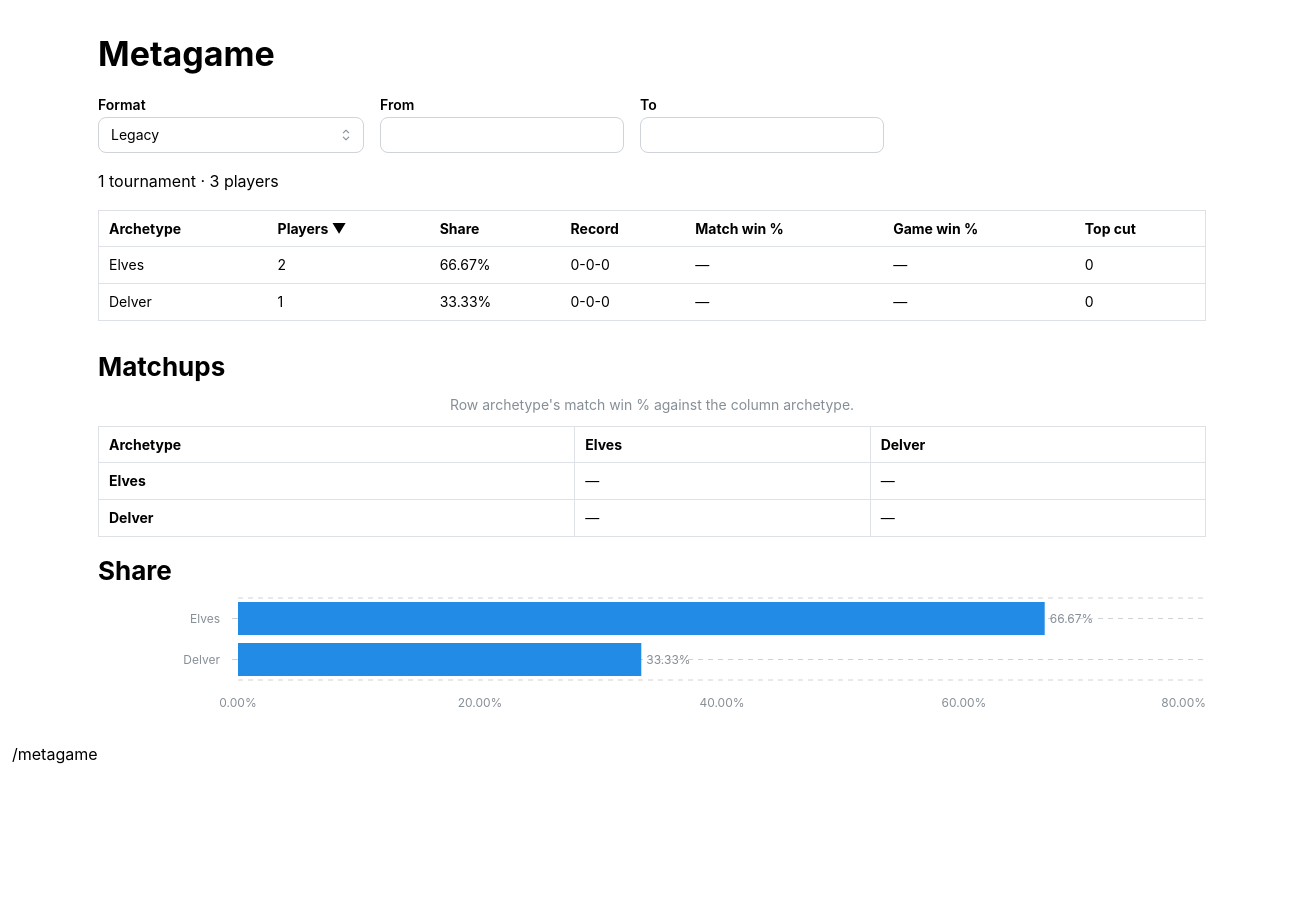
it: MetagamePage › writes a changed format into the query
Click the dropdown labelled "Format": coordinates (231, 135) x1=98 y1=117 x2=364 y2=153
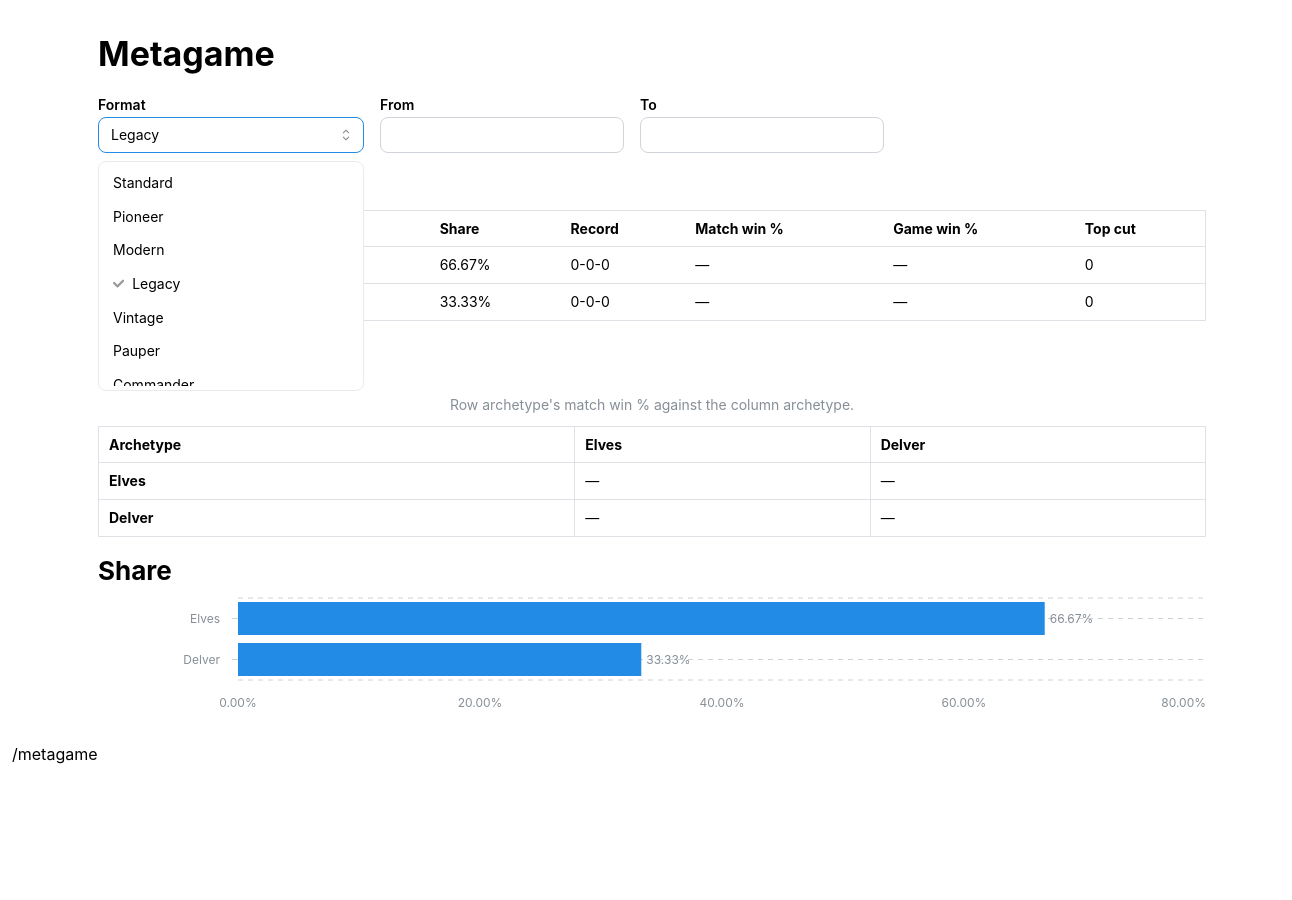
Click the option "Modern": coordinates (139, 250) x1=113 y1=241 x2=164 y2=258
(page scrolled)
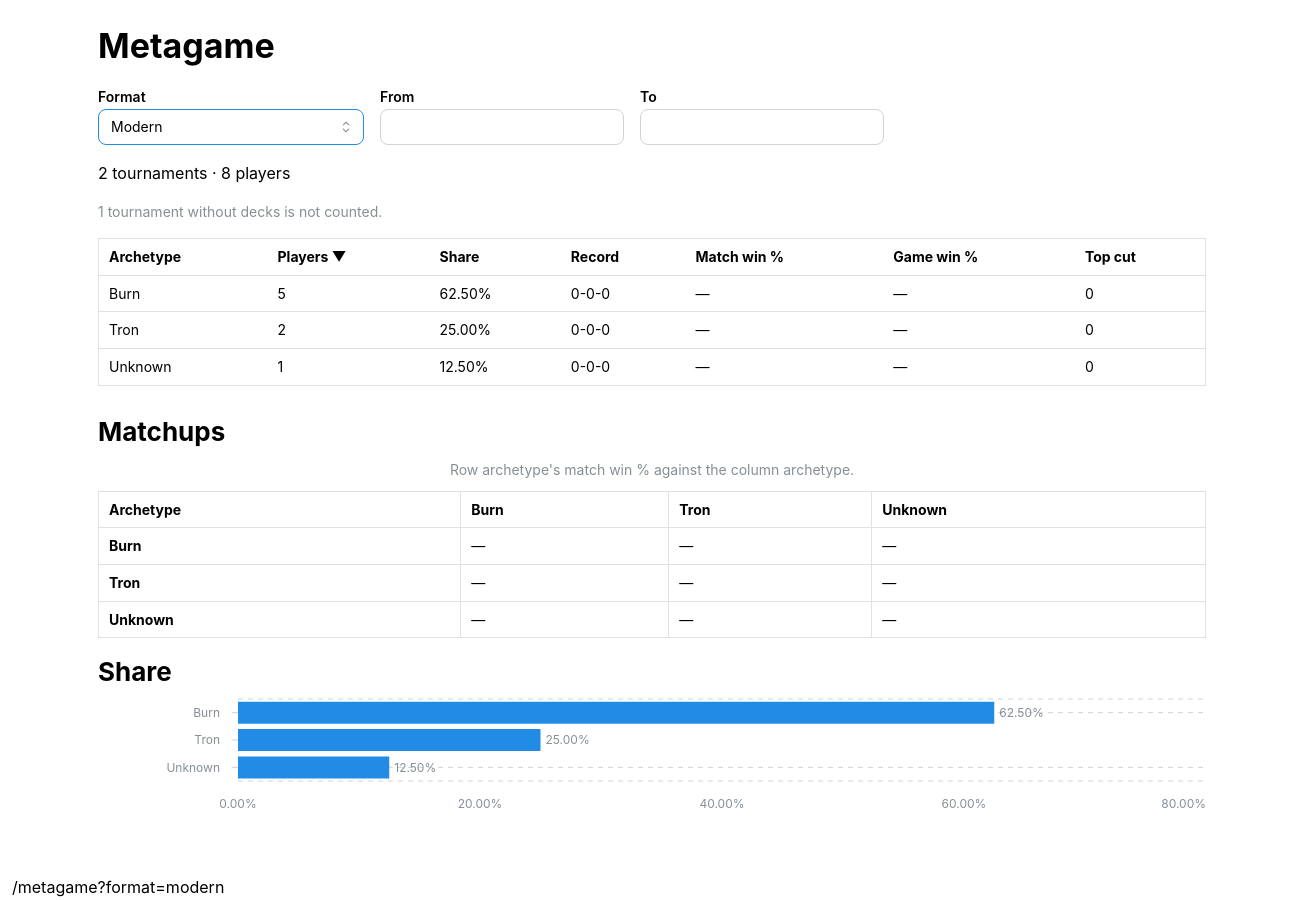
Check: the text with test id "location" reads "/metagame?format=modern", box x1=12 y1=878 x2=224 y2=898
